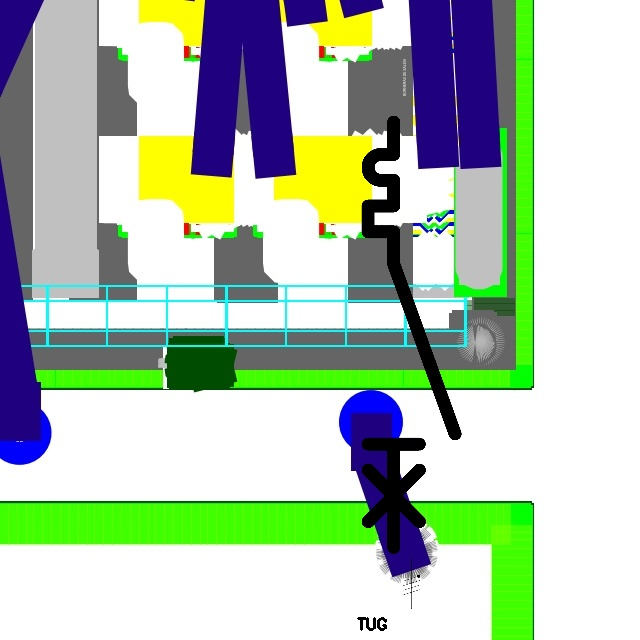interruptor_termomagnetico: (357, 111, 466, 558)
